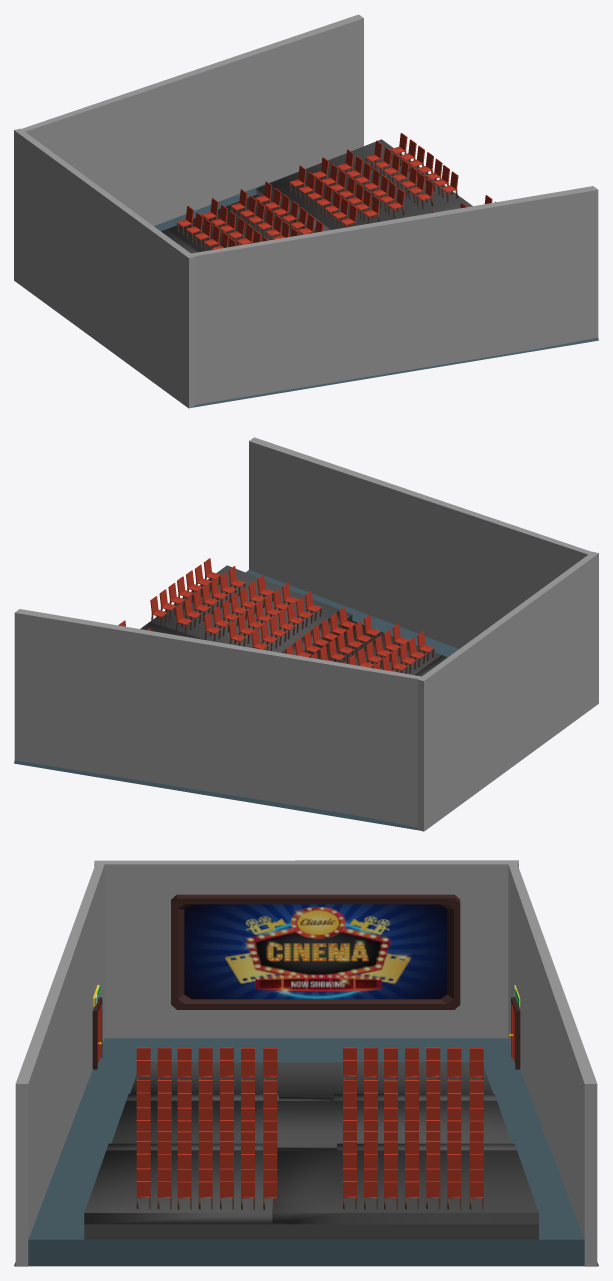
Rendered from map 5 - rap chieu phim.fbx.
3 renders of one model, top to bottom at view 1: azimuth 30°, elevation 25°; view 2: azimuth 150°, elevation 25°; view 3: azimuth 270°, elevation 25°, orthographic. The views are drawn at different scales.
Parts seen in each view (by area): view 1: polySurface1374, polySurface1373, polySurface1371, pCube1, polySurface1372; view 2: polySurface1373, polySurface1374, polySurface1371, pCube1, polySurface1372; view 3: pCube1, polySurface1371, polySurface1372, polySurface270, polySurface1373, polySurface1374, polySurface275, polySurface273.
Boxes of the visible parts, left/top/right/bottom form: polySurface1374: left=191, top=186, right=598, bottom=404; polySurface1373: left=21, top=14, right=363, bottom=225; polySurface1371: left=14, top=128, right=195, bottom=408; pCube1: left=161, top=139, right=472, bottom=253; polySurface1372: left=154, top=163, right=598, bottom=407; polySurface1373: left=14, top=609, right=421, bottom=827; polySurface1374: left=249, top=437, right=594, bottom=648; polySurface1371: left=417, top=551, right=598, bottom=831; pCube1: left=140, top=565, right=447, bottom=676; polySurface1372: left=14, top=570, right=458, bottom=830; pCube1: left=84, top=1062, right=538, bottom=1239; polySurface1371: left=94, top=860, right=518, bottom=1038; polySurface1372: left=14, top=1038, right=598, bottom=1266; polySurface270: left=171, top=894, right=460, bottom=1009; polySurface1373: left=508, top=864, right=597, bottom=1266; polySurface1374: left=15, top=862, right=104, bottom=1266; polySurface275: left=92, top=997, right=102, bottom=1069; polySurface273: left=511, top=997, right=520, bottom=1069.
Size of the model in its own units: 31.26 by 11.92 by 34.59.
